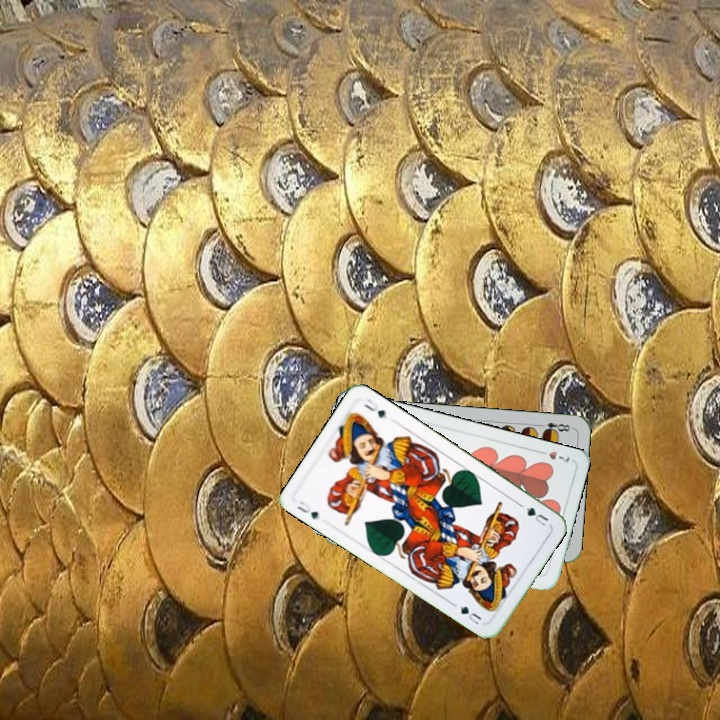E8: (534, 418, 575, 436)
GU: (516, 500, 551, 529), (293, 497, 321, 522)
H7: (534, 447, 572, 465)
